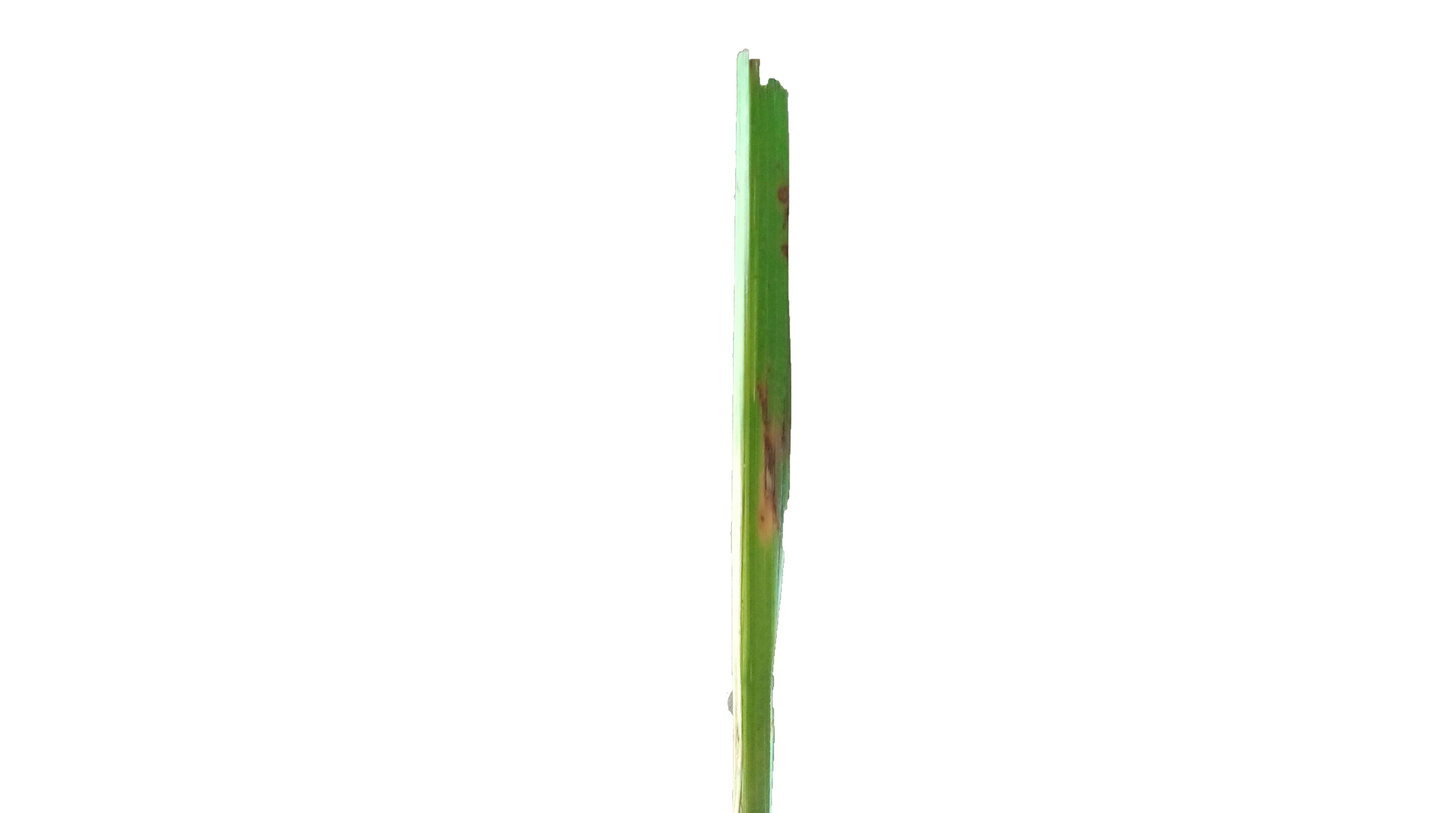Rice blast: (745, 366, 790, 550), (775, 177, 789, 266)
